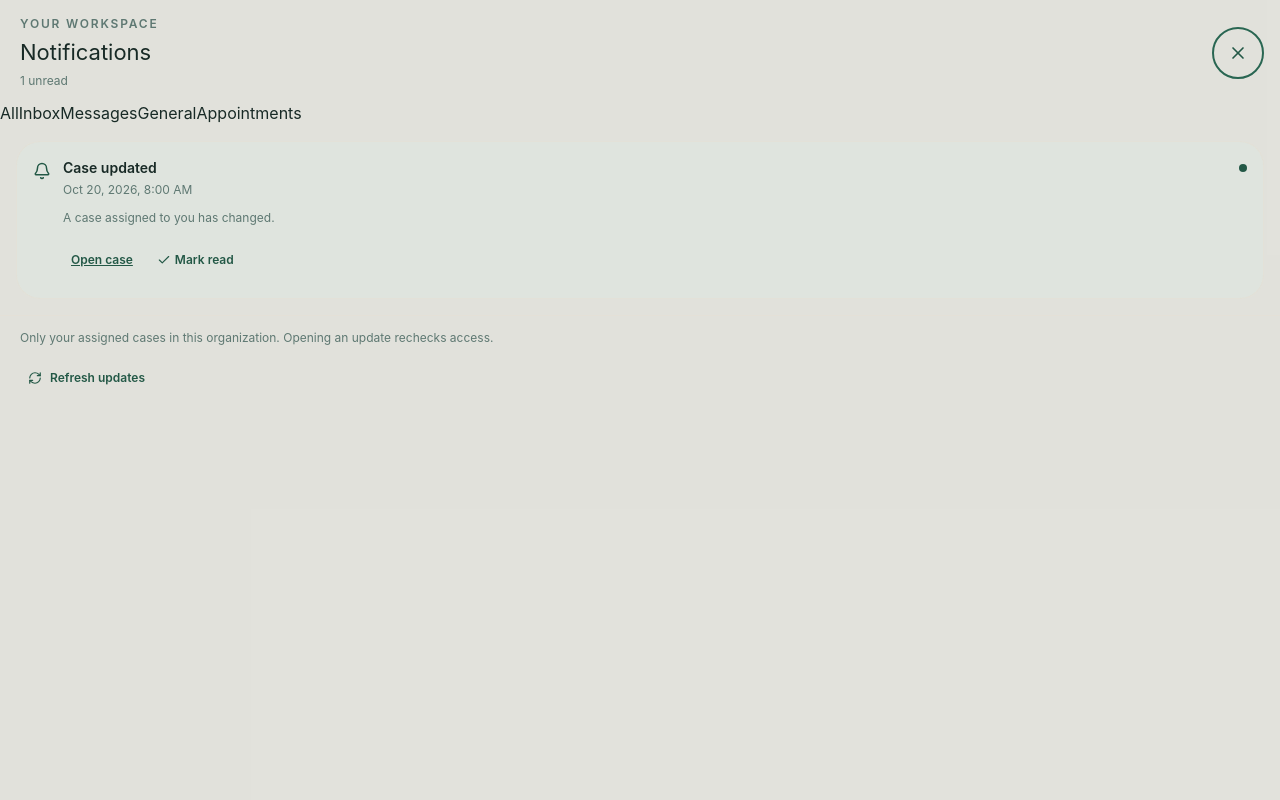
Scenario: conceals the list when read acknowledgment belongs to a different notification
Click the button "Mark read" at (195, 260), box [149,238,242,282]
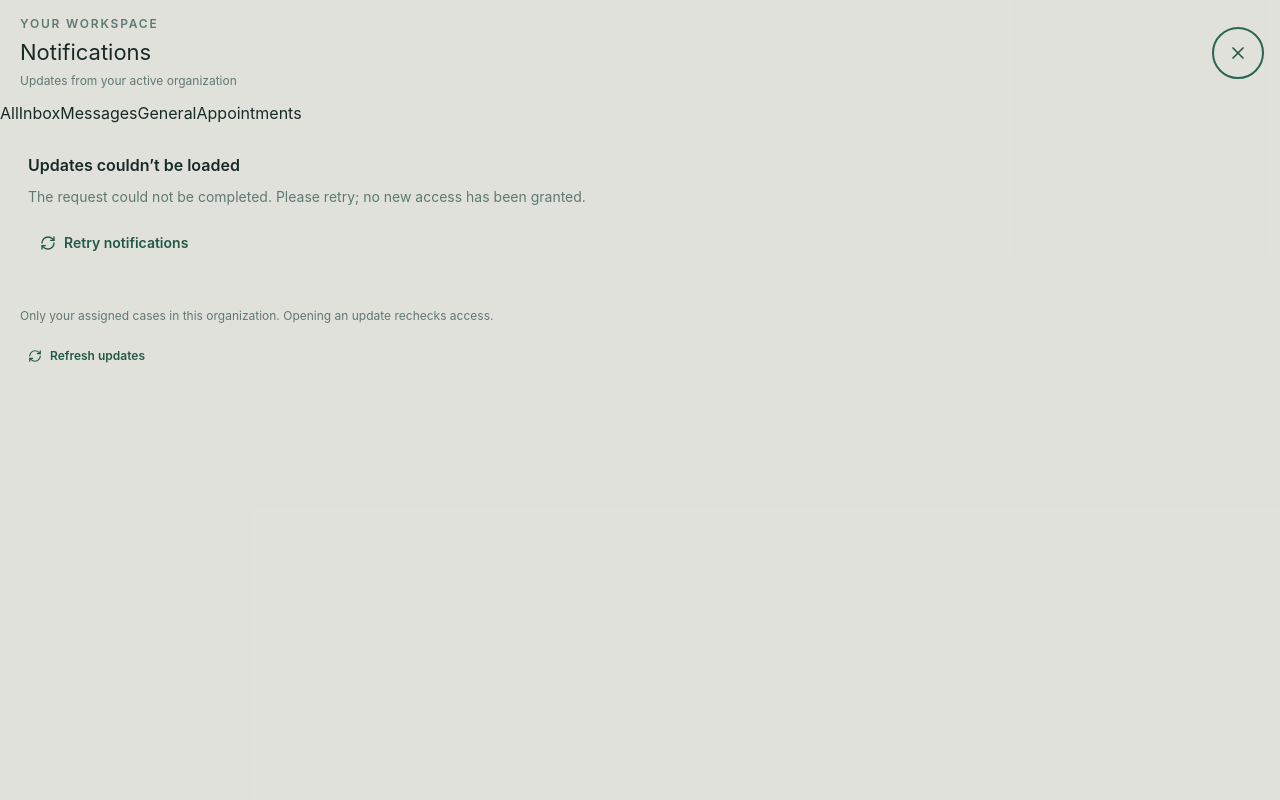
Result: the message is shown at [28,155,586,265]
Result: the link "Open case" is gone
